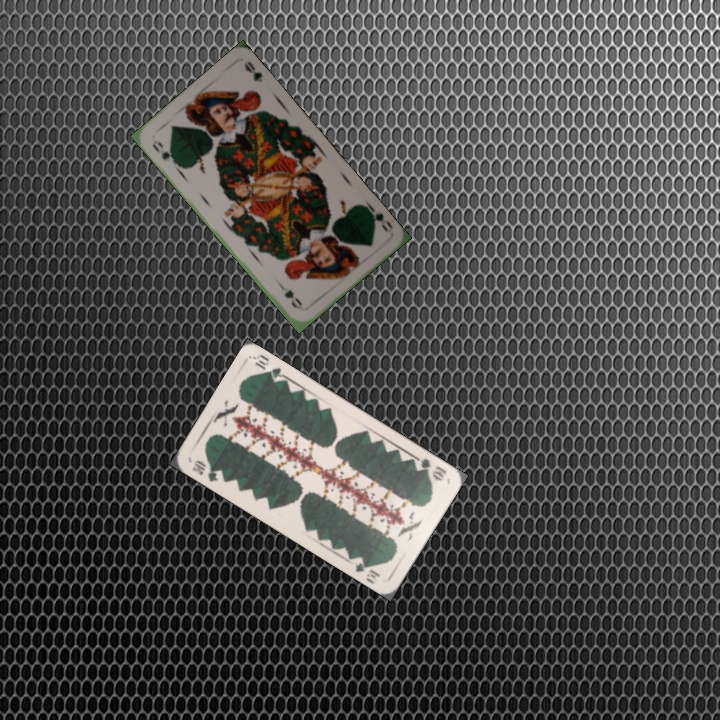G10: (410, 453, 449, 483), (188, 456, 221, 484)
GO: (360, 200, 396, 235), (148, 140, 181, 168)
